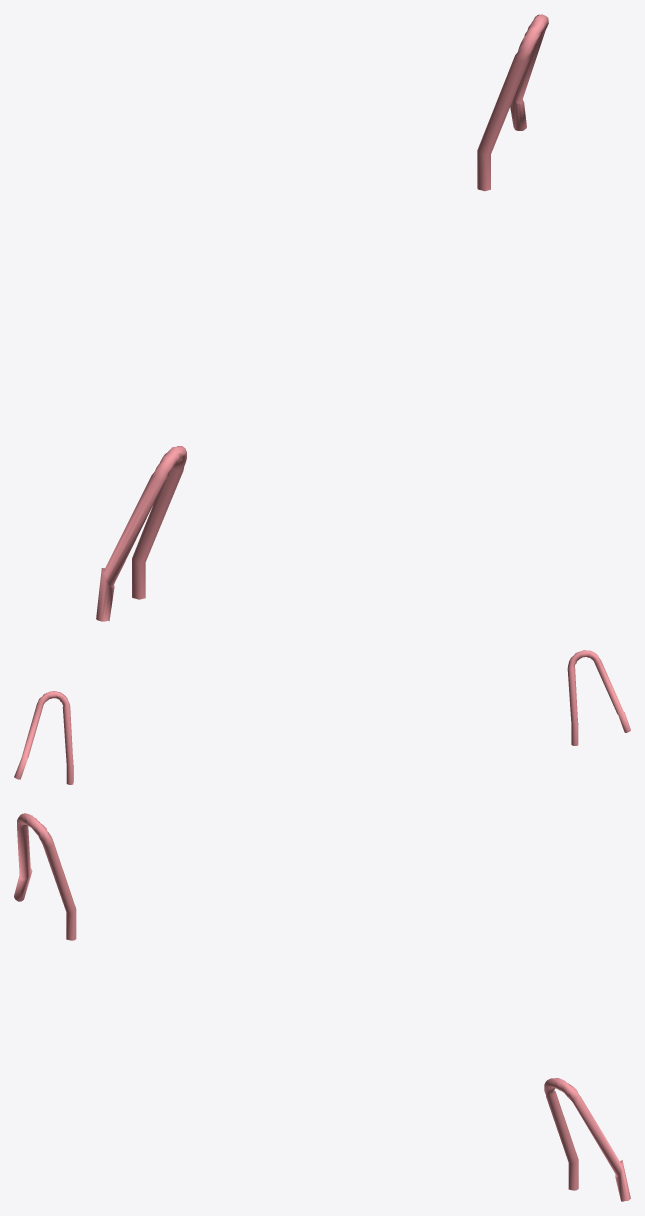
The picture shows the model from 3 angles, top to bottom: view 1: azimuth 30°, elevation 25°; view 2: azimuth 150°, elevation 25°; view 3: azimuth 270°, elevation 25°; orthographic projection. The views are drawn at different scales.
Size of the model in its own units: 0.6913 by 0.1326 by 0.5885.
